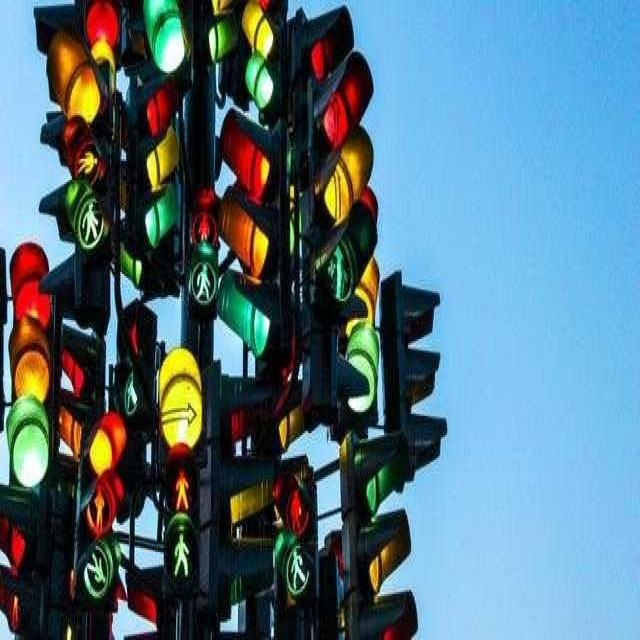Traffic Light -Green-: (218, 276, 280, 363), (3, 404, 55, 491), (143, 2, 193, 84), (346, 339, 381, 423), (138, 191, 178, 255), (244, 58, 282, 116)
Traffic Light -Red-: (10, 242, 58, 330), (223, 113, 274, 195), (316, 77, 360, 144), (139, 82, 185, 140), (77, 0, 122, 48)
Traffic Light -Yellow-: (45, 51, 106, 125), (222, 202, 276, 272), (5, 339, 56, 401), (321, 148, 360, 216), (240, 8, 280, 56), (138, 142, 180, 186)
